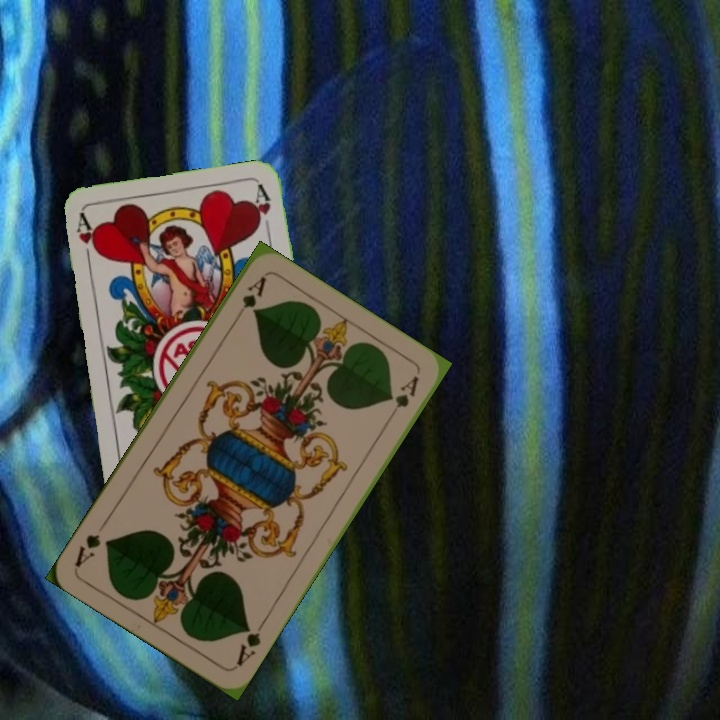GA: (230, 272, 269, 325), (232, 616, 268, 669)
HA: (72, 211, 102, 270)
